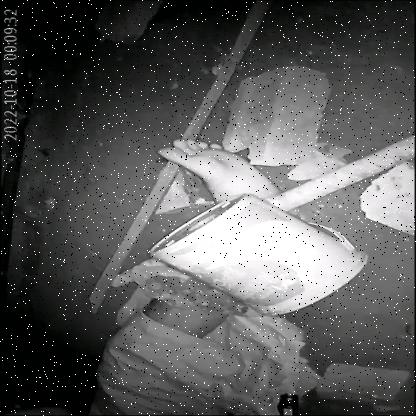leg: (142, 132, 295, 217)
